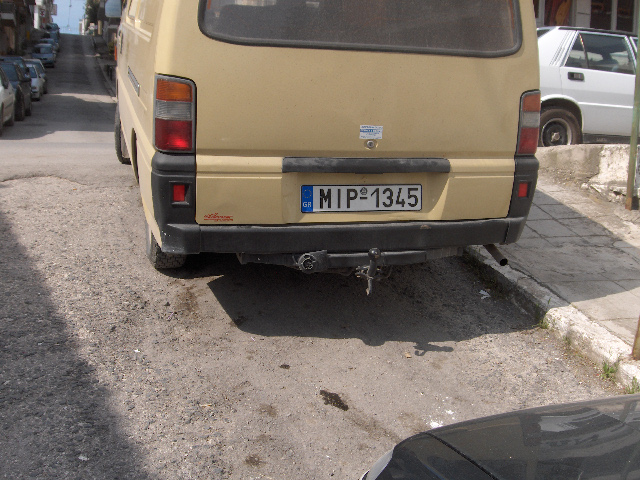licenseplate: (300, 183, 424, 212)
